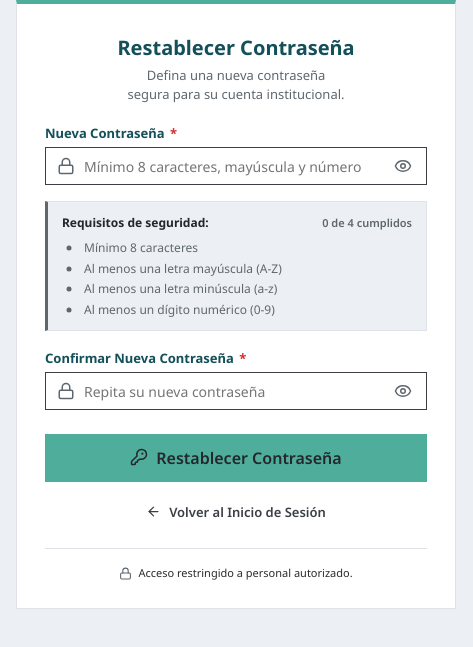
Test: RestablecerContrasenaForm (HU-65) › Cuando se provee token en la URL › debe validar que la confirmación de contraseña sea obligatoria
In the password field labelled "Nueva Contraseña *": (236,166) [45,147,427,185], type "Valdivia2026!"
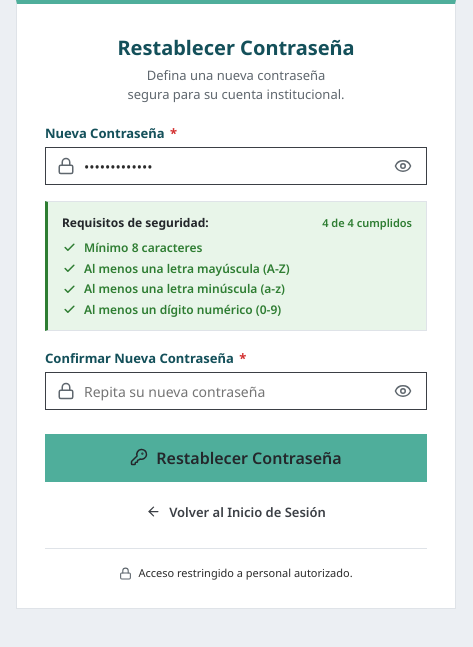
Click the button "Restablecer Contraseña": (236,458) [45,434,427,482]
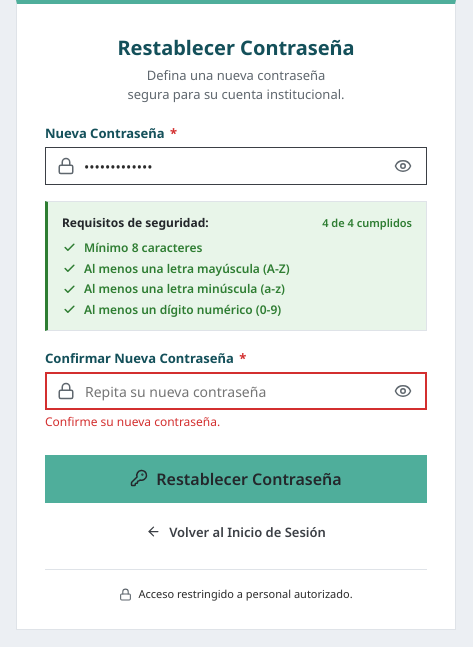
Result: the text "Confirme su nueva contraseña." is shown at [45,413,220,430]
